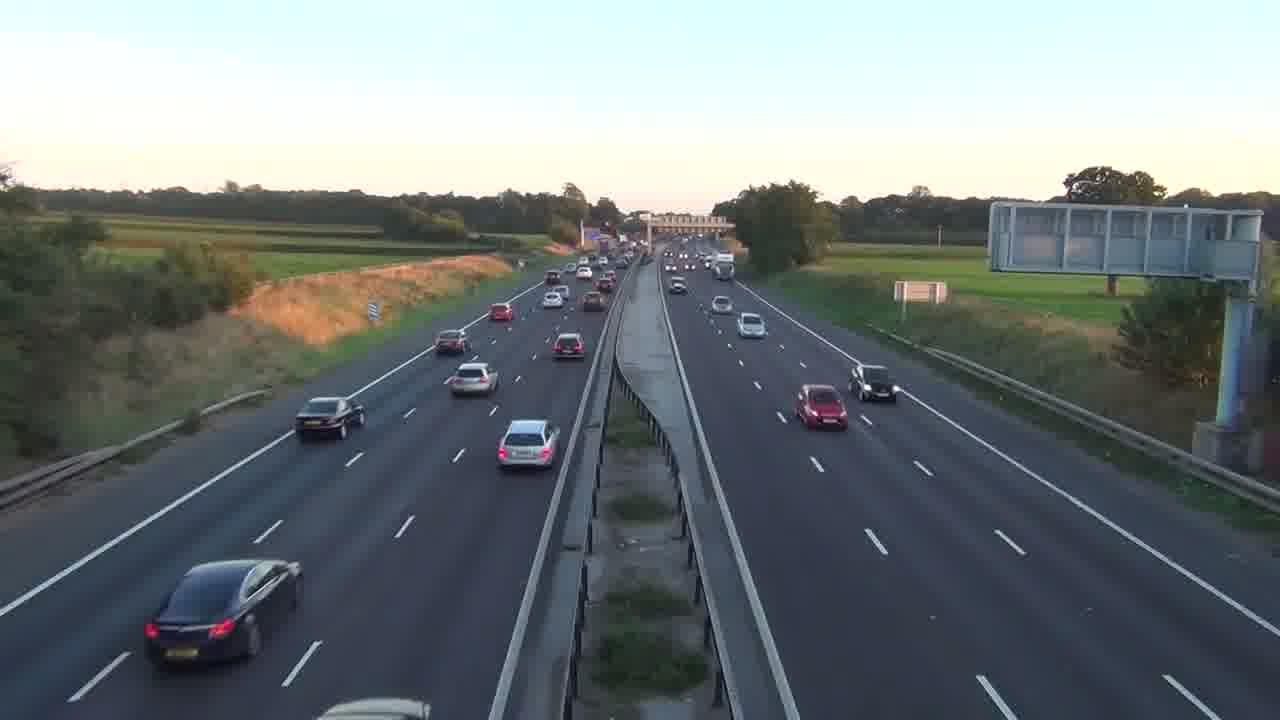car: (143, 557, 303, 671), (496, 418, 561, 471), (295, 396, 367, 441), (794, 383, 849, 431), (847, 363, 897, 403), (445, 360, 499, 397), (551, 331, 585, 361), (433, 328, 468, 355), (543, 289, 567, 309), (711, 294, 733, 313), (668, 278, 689, 295)
